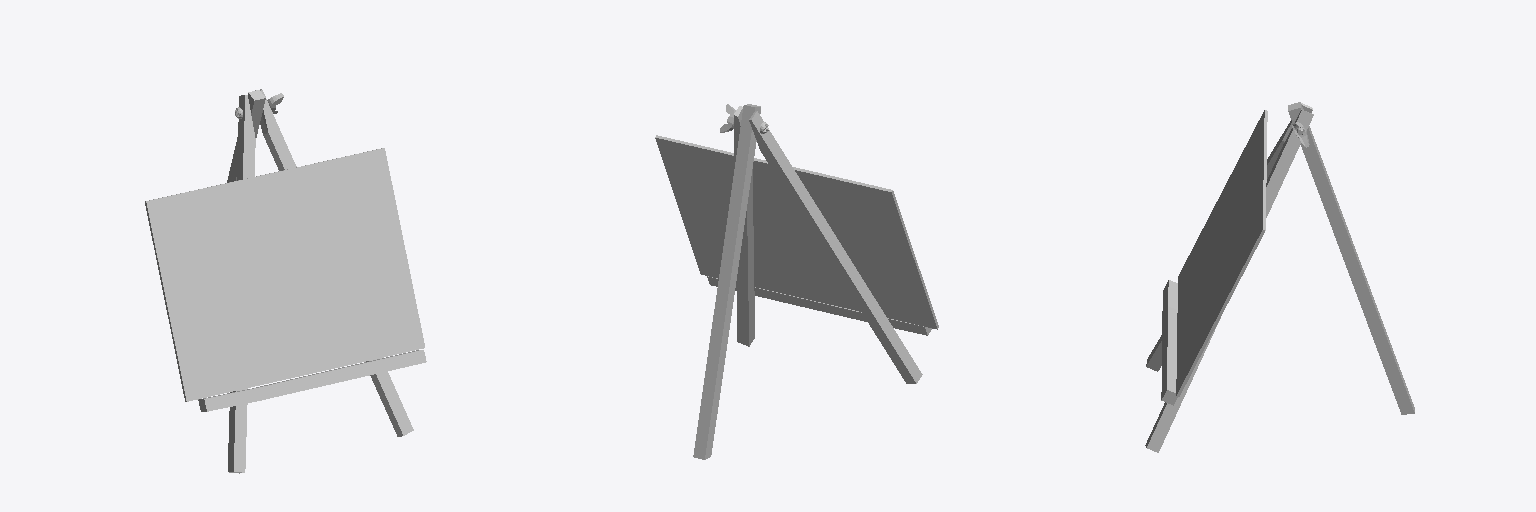
The model's file is easel.obj.
3 views of the same model, side by side, from view 1: azimuth 30°, elevation 25°; view 2: azimuth 150°, elevation 25°; view 3: azimuth 270°, elevation 25° (orthographic).
Visible parts, largest first — view 1: tripod; view 2: tripod; view 3: tripod.
Boxes of the visible parts, x1=… form: tripod: x1=145, y1=89, x2=426, y2=473; tripod: x1=655, y1=104, x2=938, y2=459; tripod: x1=1145, y1=102, x2=1414, y2=452.
Size of the model in its own units: 0.1617 by 0.2 by 0.1572.